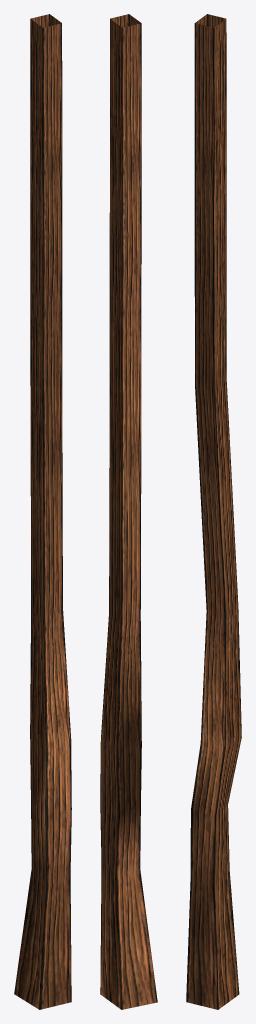
The model's file is LAKETOWN_PUB_PS_PUB_CEILINGPOLE33736.fbx.
3 views of the same model, side by side, from view 1: azimuth 30°, elevation 25°; view 2: azimuth 210°, elevation 25°; view 3: azimuth 330°, elevation 25° (orthographic).
Parts seen in each view (by area): view 1: LAKETOWN_PUB_PS_PUB_CEILINGPOLE33736; view 2: LAKETOWN_PUB_PS_PUB_CEILINGPOLE33736; view 3: LAKETOWN_PUB_PS_PUB_CEILINGPOLE33736.
Boxes of the visible parts, <box> form: LAKETOWN_PUB_PS_PUB_CEILINGPOLE33736: <box>14,14,71,1009</box>; LAKETOWN_PUB_PS_PUB_CEILINGPOLE33736: <box>100,14,157,1009</box>; LAKETOWN_PUB_PS_PUB_CEILINGPOLE33736: <box>186,14,241,1009</box>.
Bounding box in the file's own units: 2875 × 70093 × 3122.
Materials: 1 (1 with a texture image).
